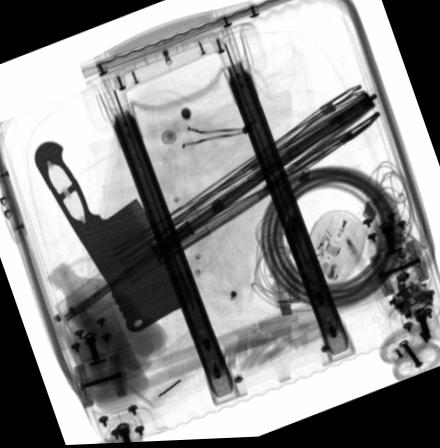Knife: (34, 141, 191, 335)
